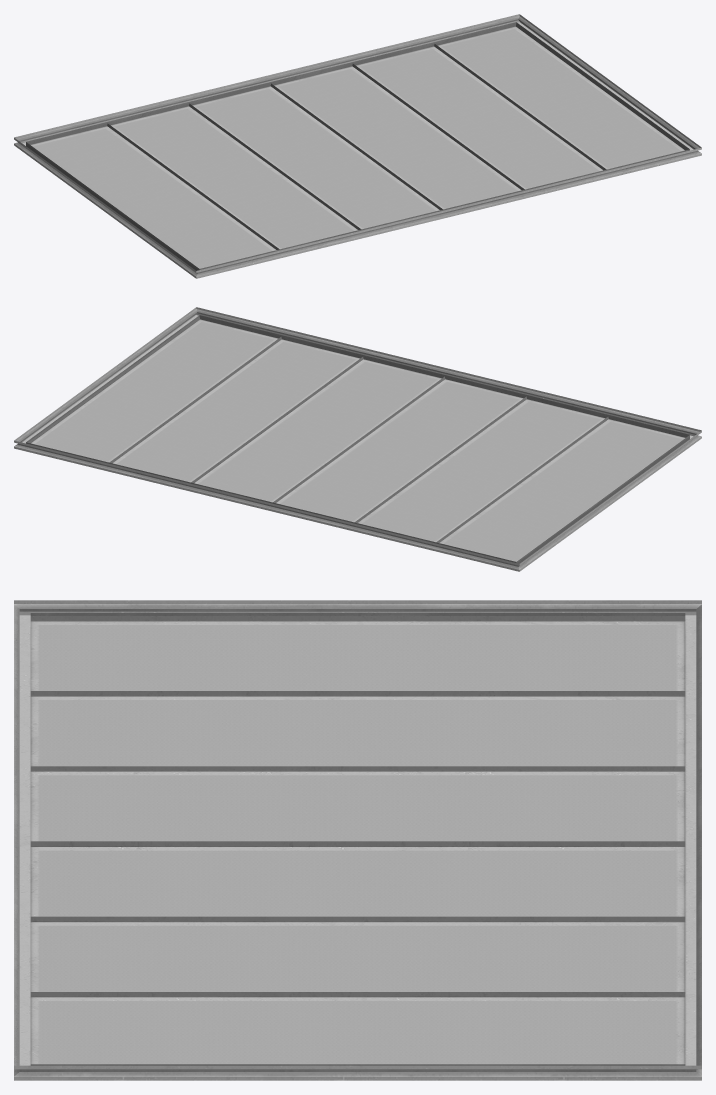
File: SM_CeilingVent_01.fbx
3 renders of one model, top to bottom at view 1: azimuth 30°, elevation 25°; view 2: azimuth 150°, elevation 25°; view 3: azimuth 270°, elevation 25°, orthographic. The views are drawn at different scales.
Parts seen in each view (by area): view 1: SM_CeilingVent_01_LOD0; view 2: SM_CeilingVent_01_LOD0; view 3: SM_CeilingVent_01_LOD0.
Boxes of the visible parts, bbox=[...] form: SM_CeilingVent_01_LOD0: bbox=[14, 14, 701, 278]; SM_CeilingVent_01_LOD0: bbox=[14, 307, 701, 571]; SM_CeilingVent_01_LOD0: bbox=[14, 600, 701, 1080].
Size of the model in its own units: 200 by 125 by 3.
